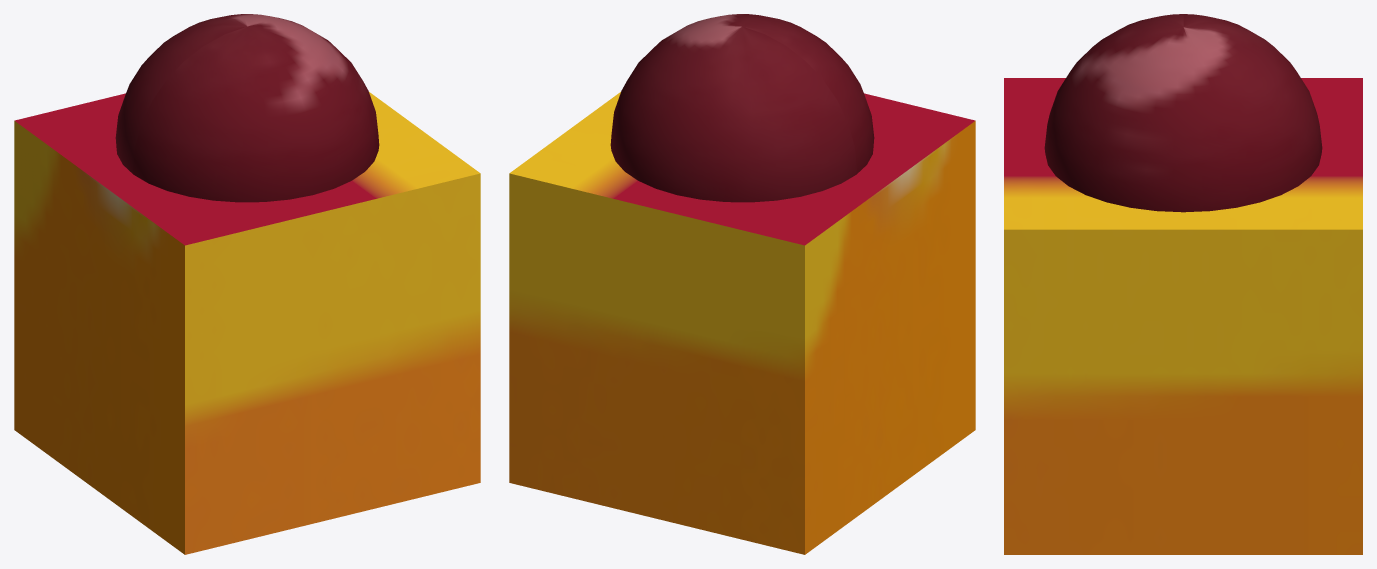
Rendered from Green Button.fbx.
3 views of the same model, side by side, from view 1: azimuth 30°, elevation 25°; view 2: azimuth 150°, elevation 25°; view 3: azimuth 270°, elevation 25° (orthographic). The views are drawn at different scales.
Visible parts, largest first — view 1: Cube.025; view 2: Cube.025; view 3: Cube.025.
Part boxes in pixels (bbox=[...]): Cube.025: bbox=[14, 14, 480, 554]; Cube.025: bbox=[509, 14, 975, 554]; Cube.025: bbox=[1004, 14, 1362, 554].
Size of the model in its own units: 44.14 by 61.33 by 44.14.
